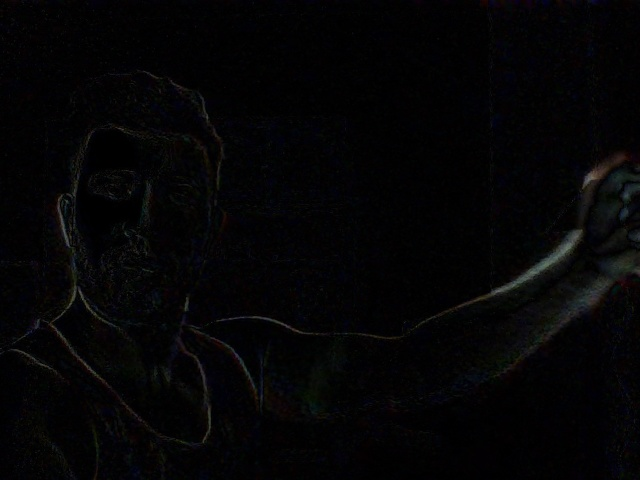hand_fi: (582, 142, 640, 275)
